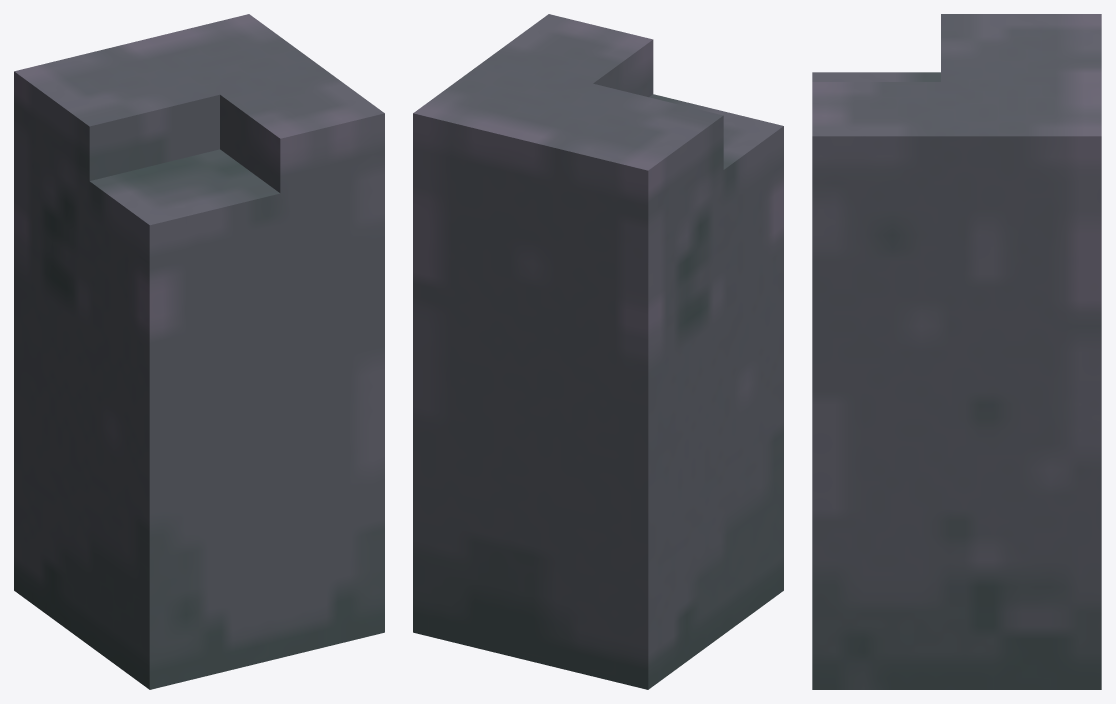
File: Rock_9.fbx
The picture shows the model from 3 angles, left to right: view 1: azimuth 30°, elevation 25°; view 2: azimuth 150°, elevation 25°; view 3: azimuth 270°, elevation 25°; orthographic projection. The views are drawn at different scales.
Visible parts, largest first — view 1: Rock_9; view 2: Rock_9; view 3: Rock_9.
Part boxes in pixels (x1,y1,x2,y2): Rock_9: [14, 14, 384, 689]; Rock_9: [413, 14, 783, 689]; Rock_9: [812, 14, 1101, 689].
Bounding box in the file's own units: 45 × 95 × 45.
